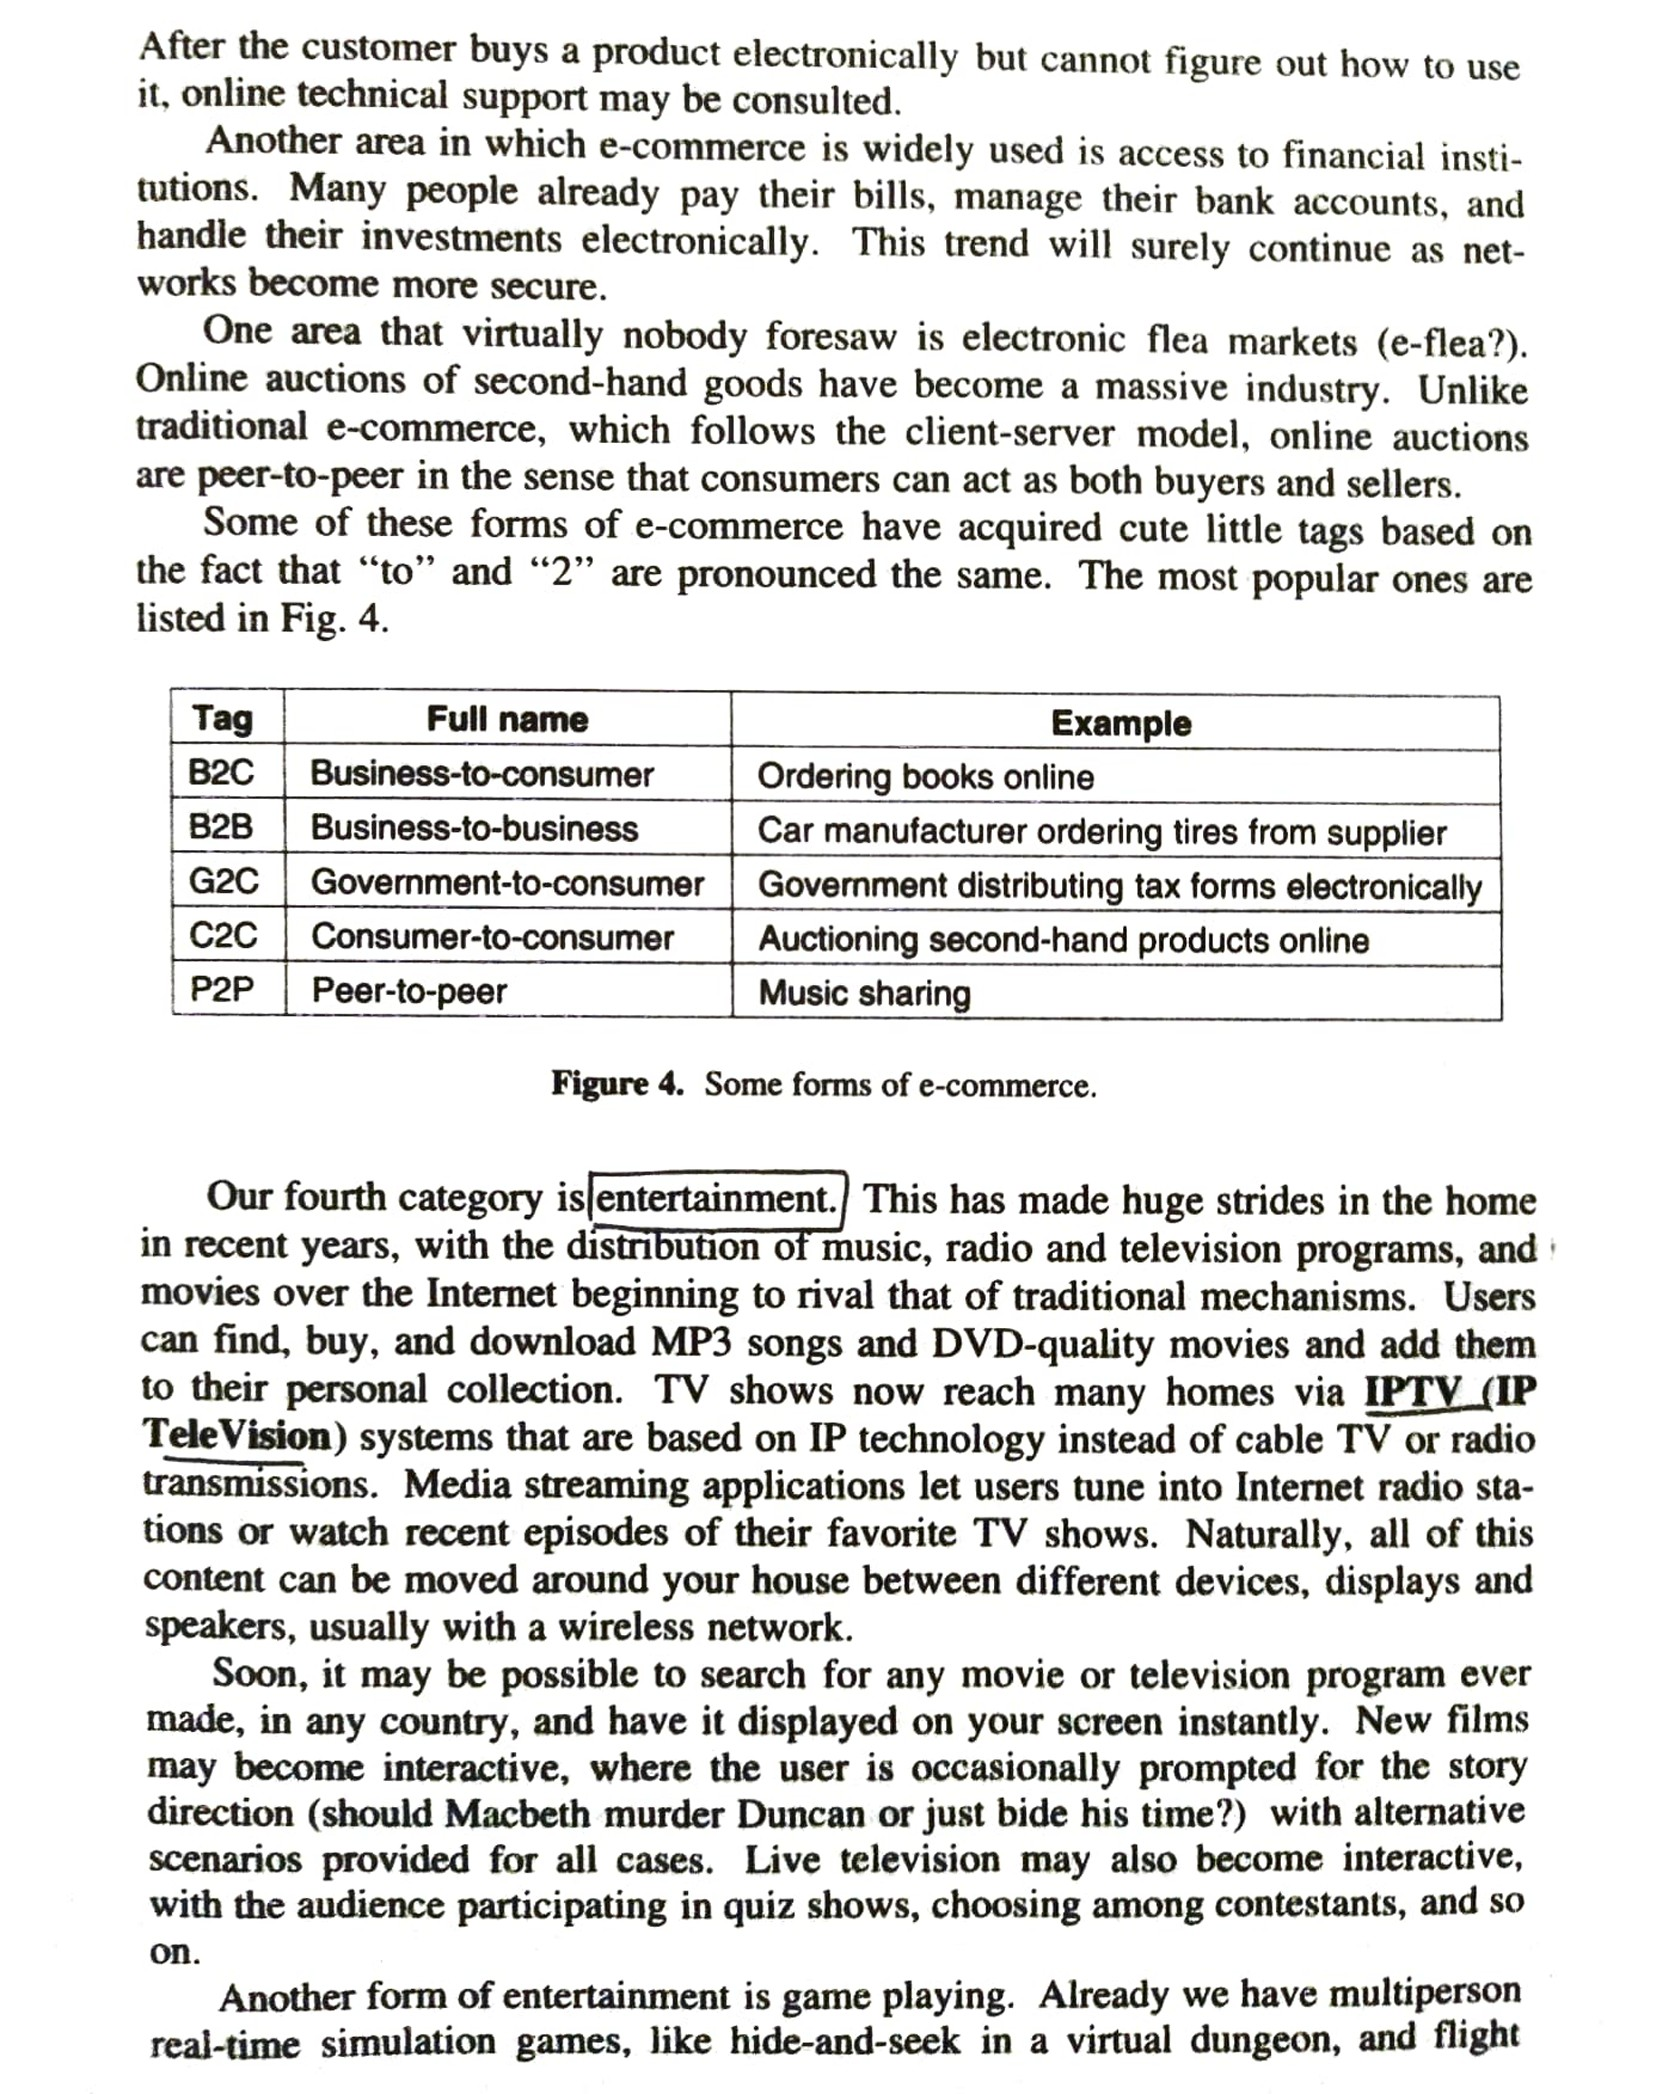BB1: (109, 14, 1561, 659)
BB2: (105, 1151, 1572, 1654)
BB3: (102, 1650, 1578, 1978)
